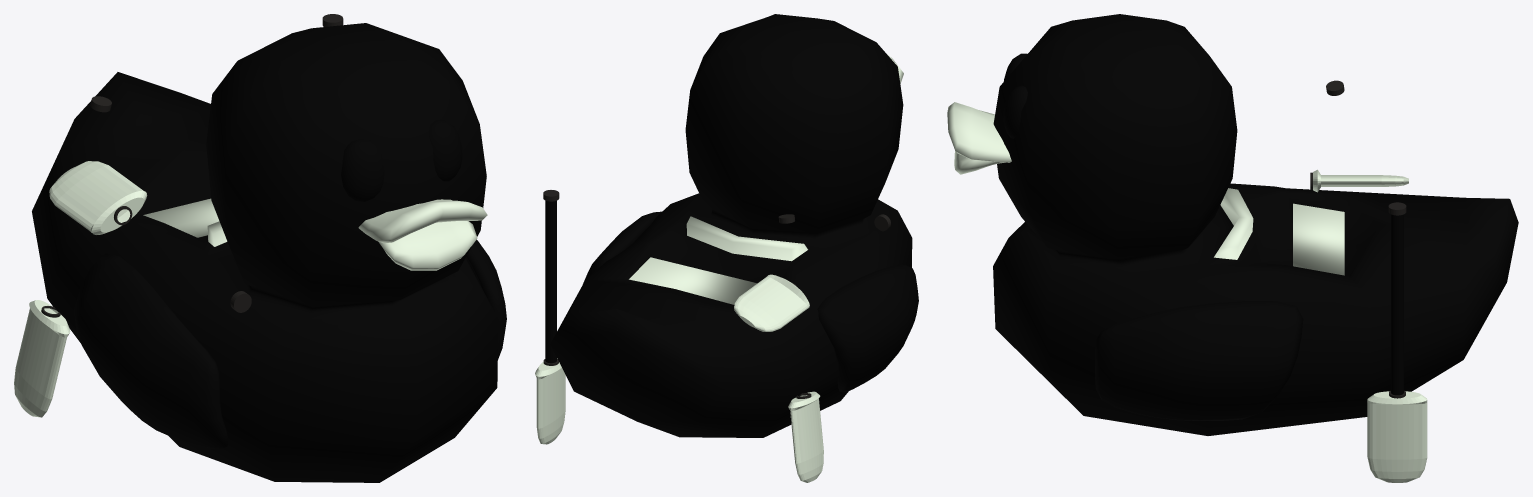
The model's file is duck-paddles.fbx.
3 renders of one model, left to right at view 1: azimuth 30°, elevation 25°; view 2: azimuth 150°, elevation 25°; view 3: azimuth 270°, elevation 25°, orthographic. The views are drawn at different scales.
Parts seen in each view (by area): view 1: Duckie, Paddle, Paddle.002; view 2: Duckie, Paddle.001, Paddle, Paddle.002; view 3: Duckie, Paddle.001, Paddle.
Part boxes in pixels (box(x1,y1,x2,y2)): Duckie: box(32, 23, 506, 482); Paddle: box(49, 161, 251, 312); Paddle.002: box(14, 96, 111, 417); Duckie: box(550, 14, 918, 437); Paddle.001: box(535, 190, 565, 444); Paddle: box(734, 214, 890, 331); Paddle.002: box(778, 214, 823, 482); Duckie: box(947, 14, 1518, 435); Paddle.001: box(1367, 202, 1427, 482); Paddle: box(1310, 169, 1408, 192).
Bounding box in the file's own units: 155 × 179 × 240.
